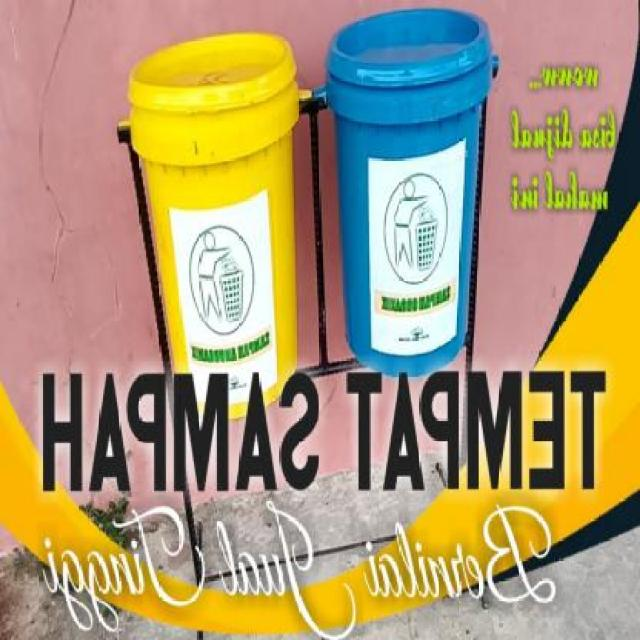garbage container: (120, 26, 311, 420), (320, 8, 503, 382)
